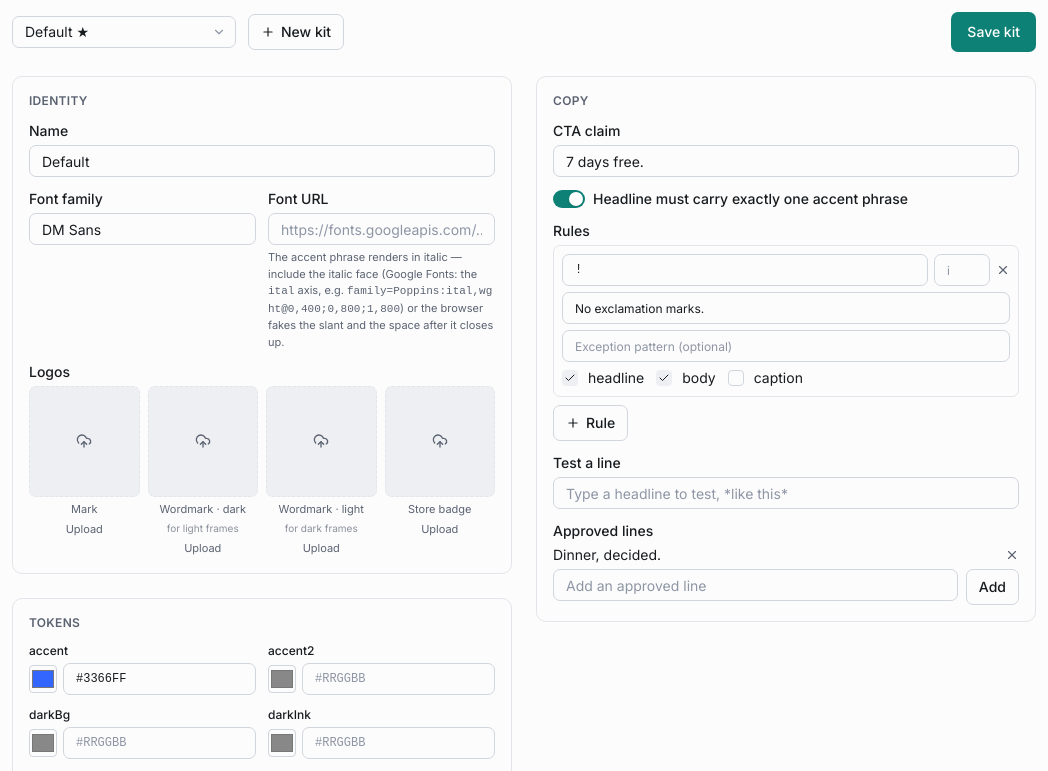
Test: BrandKitForm › shows no issues for a line that clears every rule and the accent-phrase requirement
In the field labelled "Test a line": point(786, 493) [553,477,1019,509], type "Every day, *finally organized*."
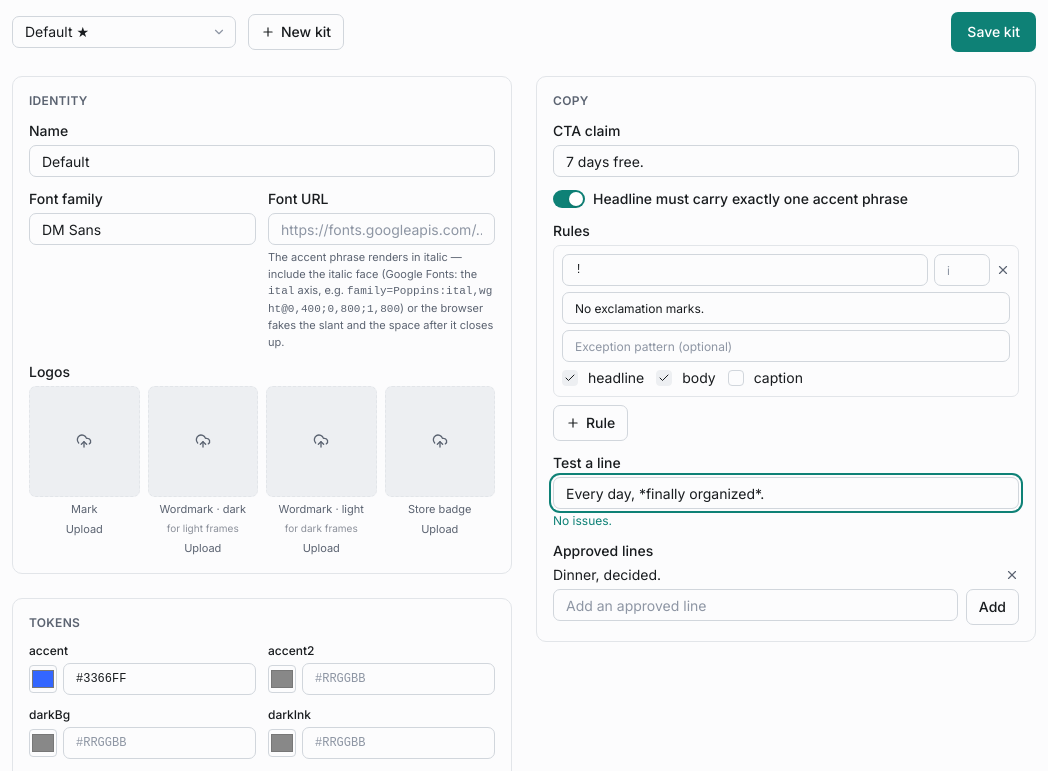
expect the text "No issues." is shown: met, box [553,513,612,528]
